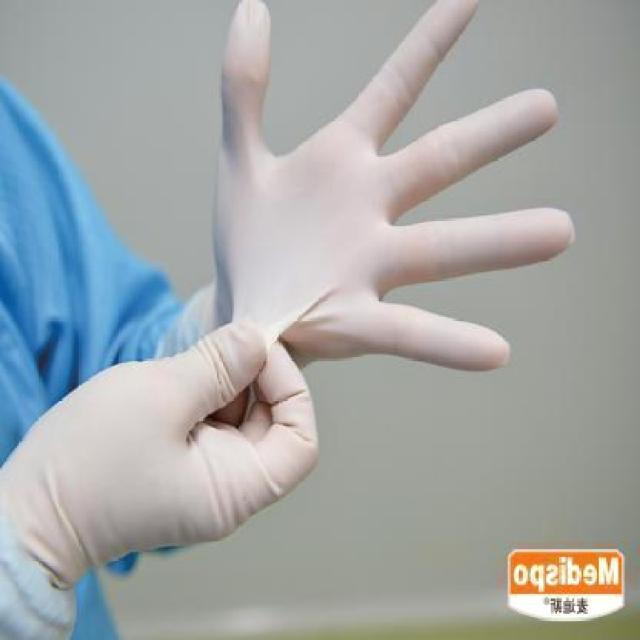hand_glove: (195, 0, 577, 380), (68, 321, 320, 573)
